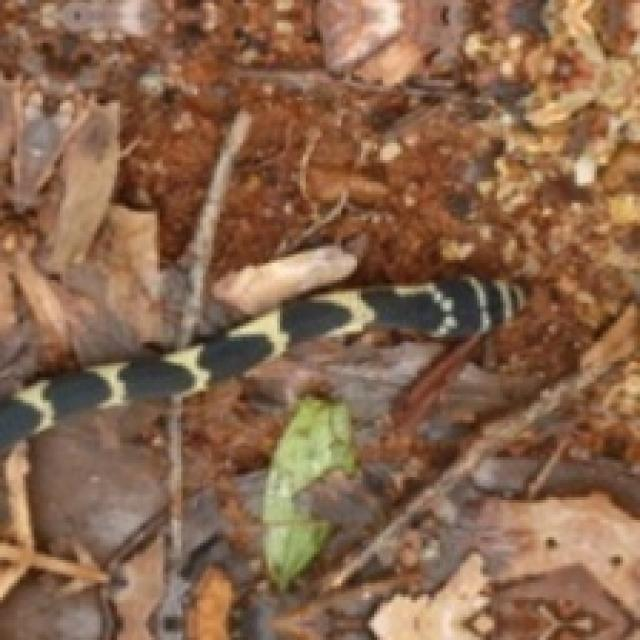king cobra: (0, 274, 523, 454)
